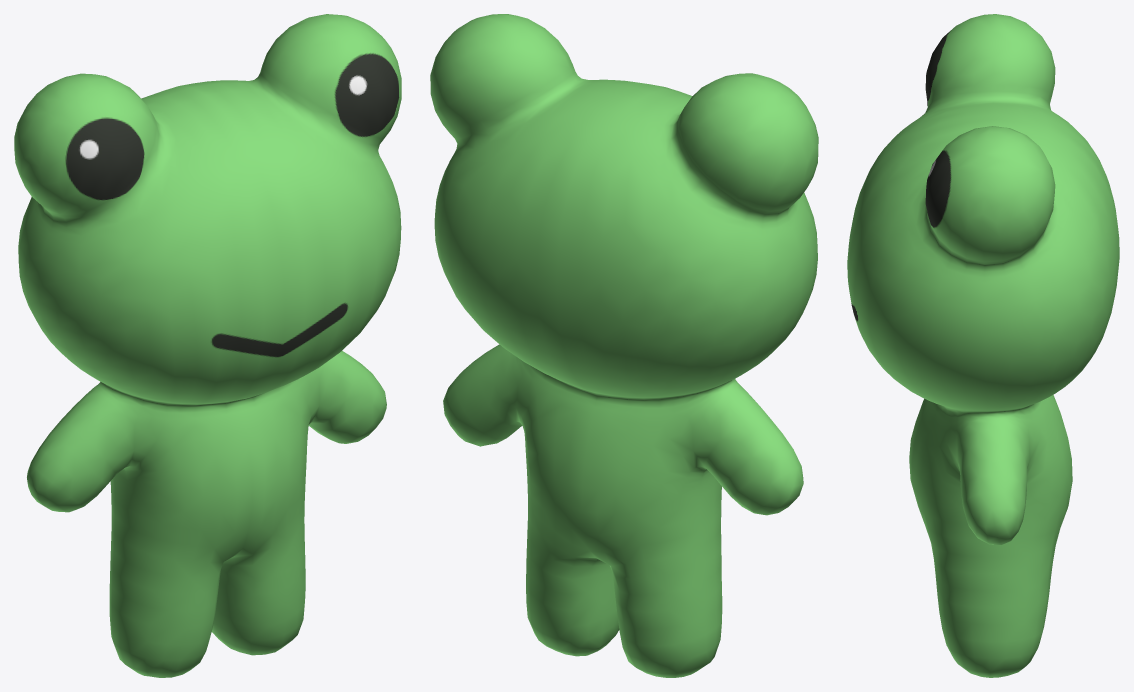
The model's file is gekota.glb.
3 views of the same model, side by side, from view 1: azimuth 30°, elevation 25°; view 2: azimuth 150°, elevation 25°; view 3: azimuth 270°, elevation 25° (orthographic). The views are drawn at different scales.
Visible parts, largest first — view 1: qingwa02; view 2: qingwa02; view 3: qingwa02.
Boxes of the visible parts, <box> form: qingwa02: <box>14,14,401,677</box>; qingwa02: <box>430,14,818,677</box>; qingwa02: <box>847,14,1119,677</box>.
Size of the model in its own units: 0.4725 by 0.7432 by 0.3204.
Materials: 1 (1 with a texture image).
